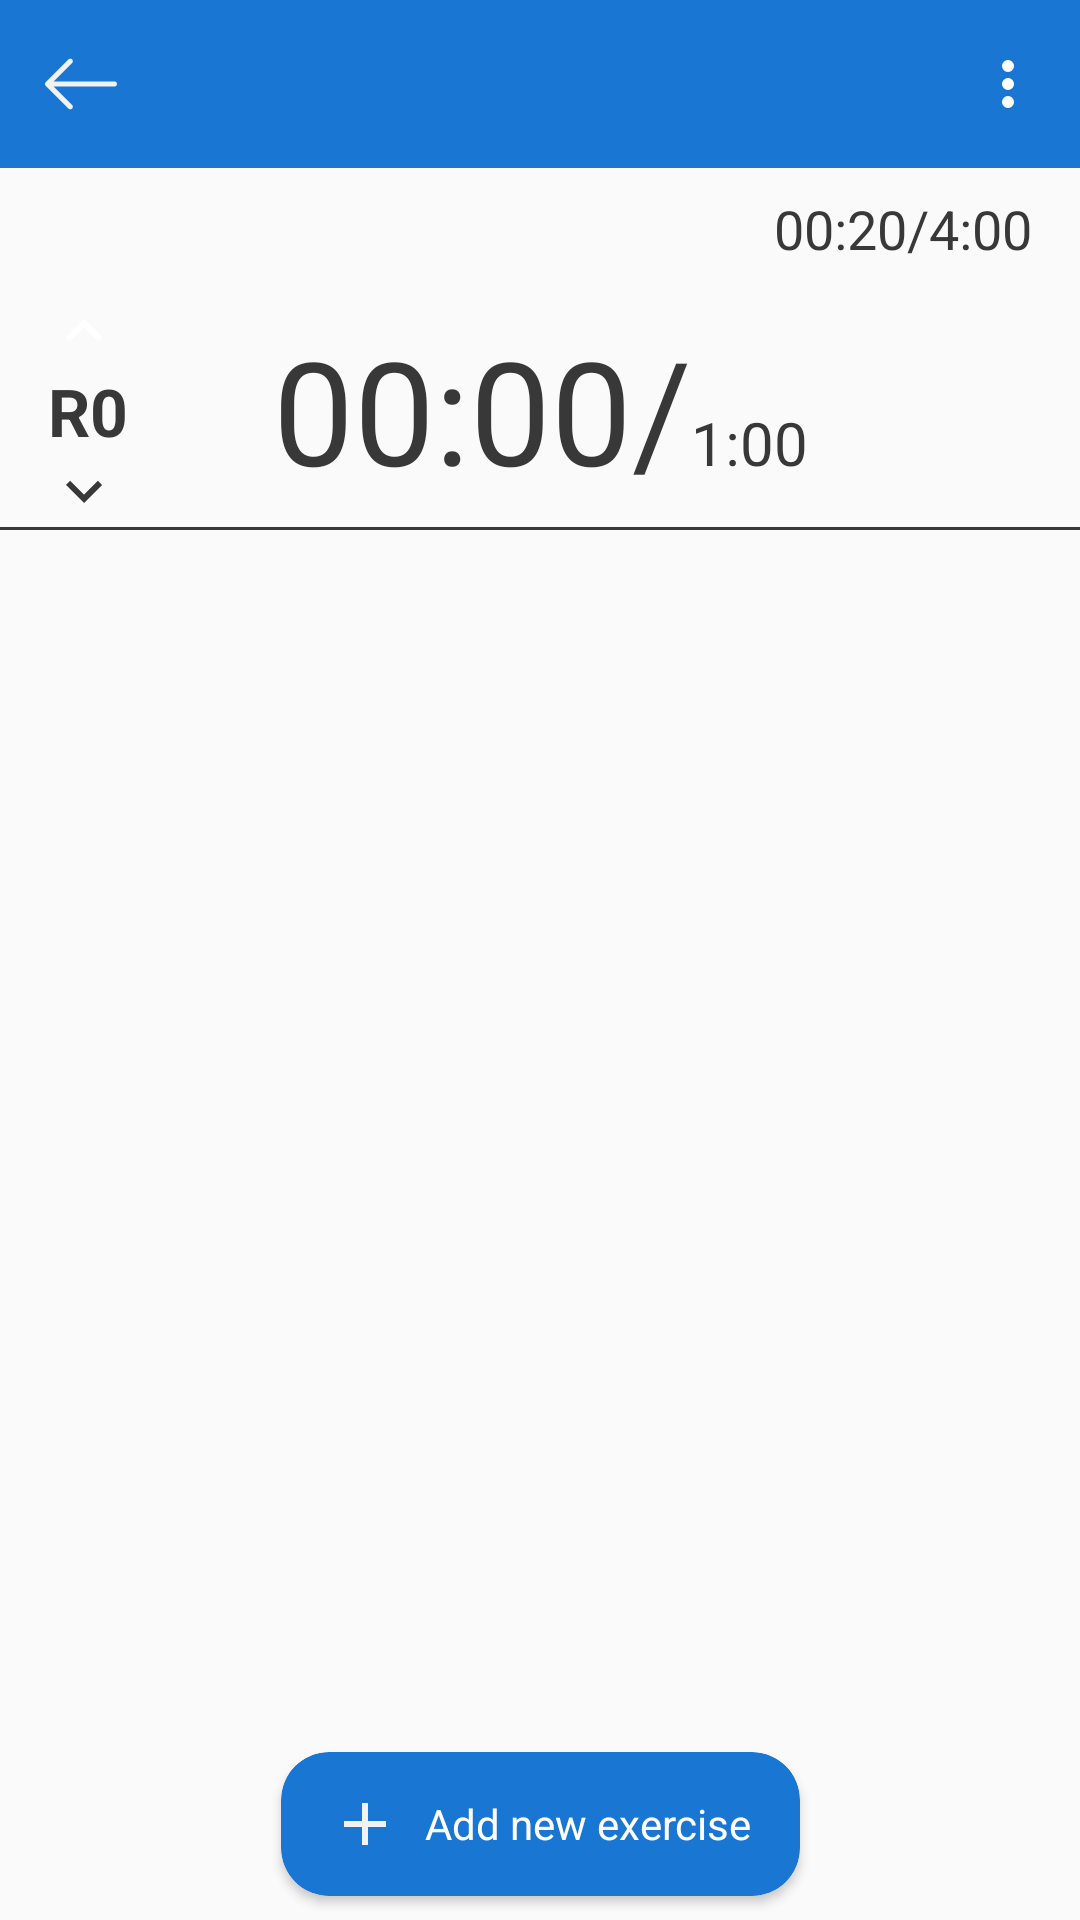

Icon bounding boxes for this 1080 × 1920 phone screenshot, format region(x1, y1, x2, y2):
back: region(45, 58, 117, 110)
chevron down: region(66, 481, 102, 503)
dots vertical: region(1002, 60, 1014, 108)
